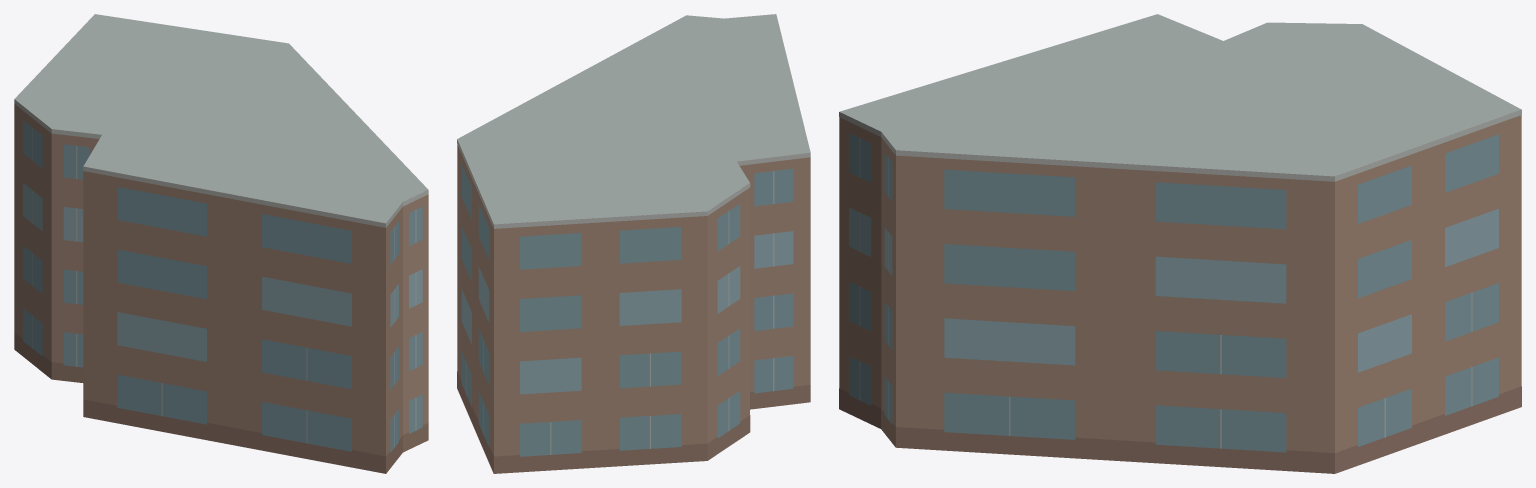
File: survey-upis-32969678.glb
3 renders of one model, left to right at view 1: azimuth 30°, elevation 25°; view 2: azimuth 150°, elevation 25°; view 3: azimuth 270°, elevation 25°, orthographic. The views are drawn at different scales.
Visible parts, largest first — view 1: survey-upis-32969678.tmp; view 2: survey-upis-32969678.tmp; view 3: survey-upis-32969678.tmp.
Part boxes in pixels (bbox=[...]): survey-upis-32969678.tmp: bbox=[14, 14, 428, 473]; survey-upis-32969678.tmp: bbox=[457, 14, 810, 473]; survey-upis-32969678.tmp: bbox=[839, 14, 1521, 473].
Size of the model in its own units: 15.88 by 13.55 by 28.19.
